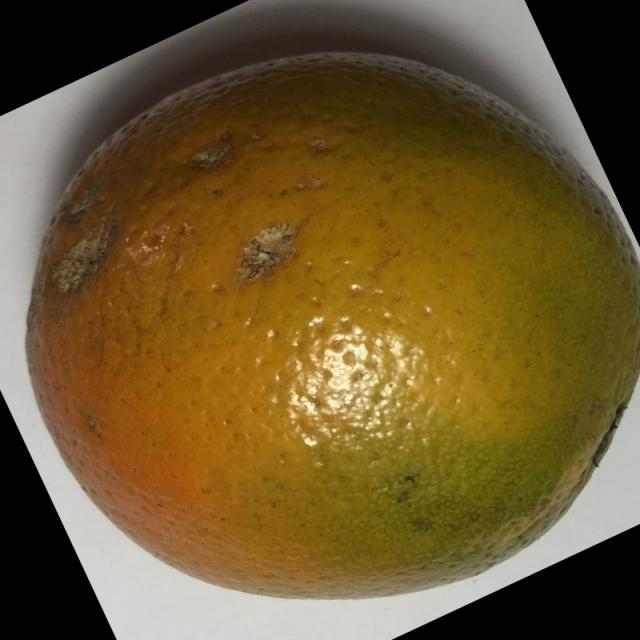canker: (22, 38, 640, 629)
